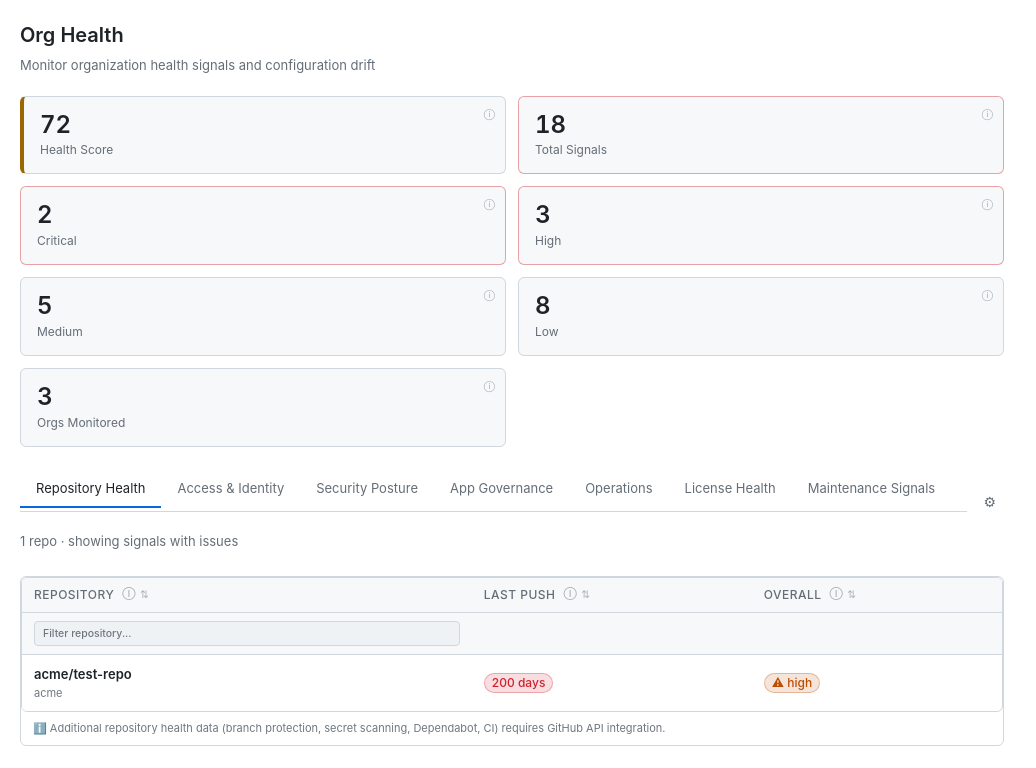
it: HealthPage › switches to Security Posture tab
What coordinates should you click on to do the following:
click the tab "Security Posture"
I would click on:
 (367, 489)
Its box is [300, 471, 434, 508].
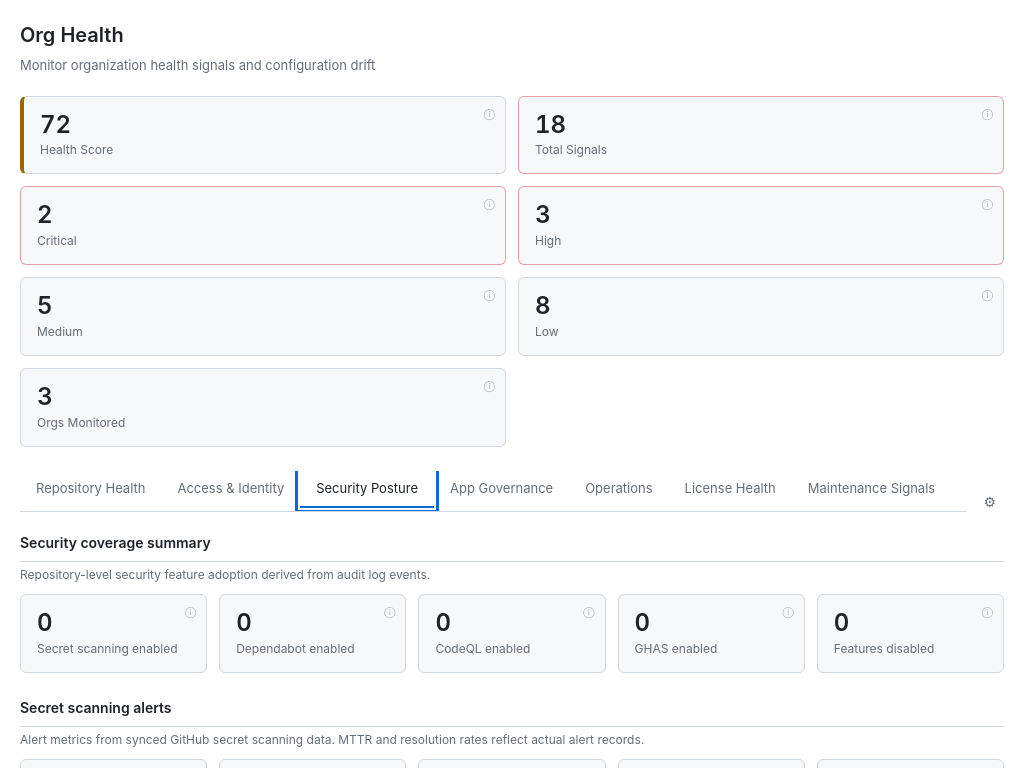
Now the text "Repository-level security feature adoption" is shown, box [20, 567, 430, 582]
